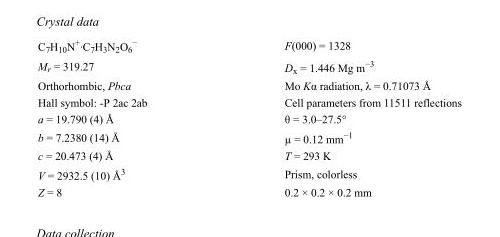table: (37, 36, 460, 197)
table column: (215, 36, 460, 197), (37, 36, 215, 197)
table row: (37, 55, 460, 76), (37, 163, 460, 183), (37, 36, 460, 55), (37, 127, 460, 146), (37, 76, 460, 93), (37, 93, 460, 110), (37, 110, 460, 127), (37, 146, 460, 163), (37, 183, 460, 197)
